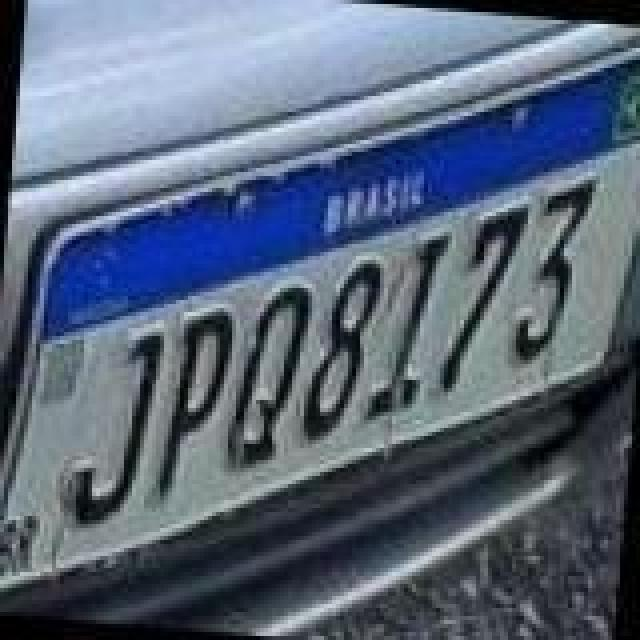3: (510, 174, 594, 370)
7: (436, 200, 532, 400)
8: (300, 256, 388, 448)
I: (366, 230, 450, 426)
J: (72, 328, 168, 536)
P: (154, 306, 238, 510)
Q: (220, 278, 316, 474)
